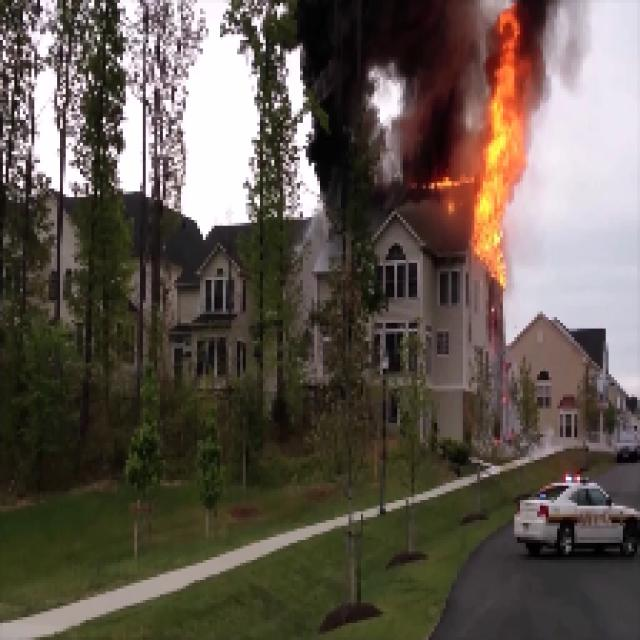fire: (469, 8, 543, 286)
smoke: (319, 8, 459, 170)
